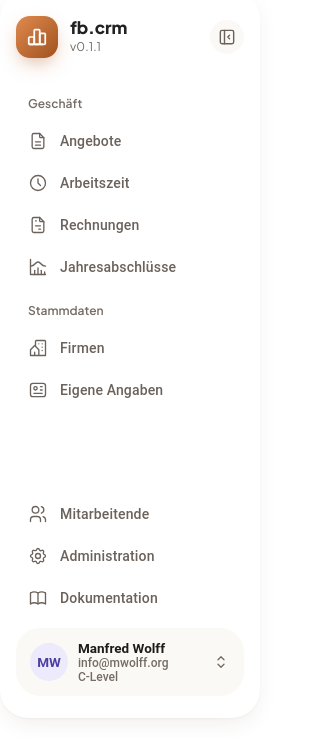
Test case: NavRail › oeffnet aus der Nutzerkarte das Menue mit „Abmelden" (K14, E7)
Click the button with aria-label "Nutzermenü" at x=130, y=662, box [16, 628, 244, 696]
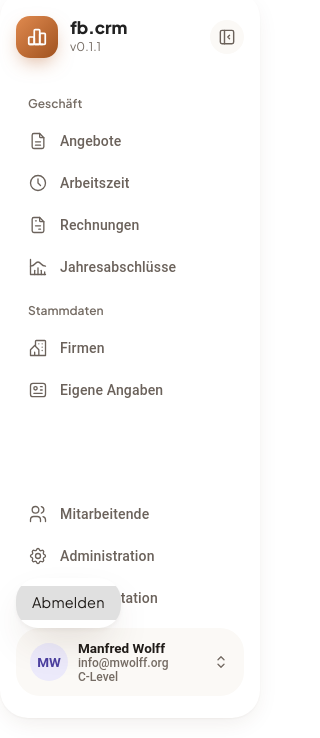
Expected: the menu items read "Abmelden", in this order, [16, 586, 121, 620]
